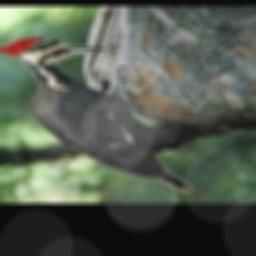Woodpecker: (0, 38, 197, 191)
